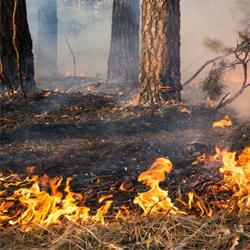fire: (21, 187, 83, 222), (226, 152, 250, 202), (136, 174, 161, 220)
